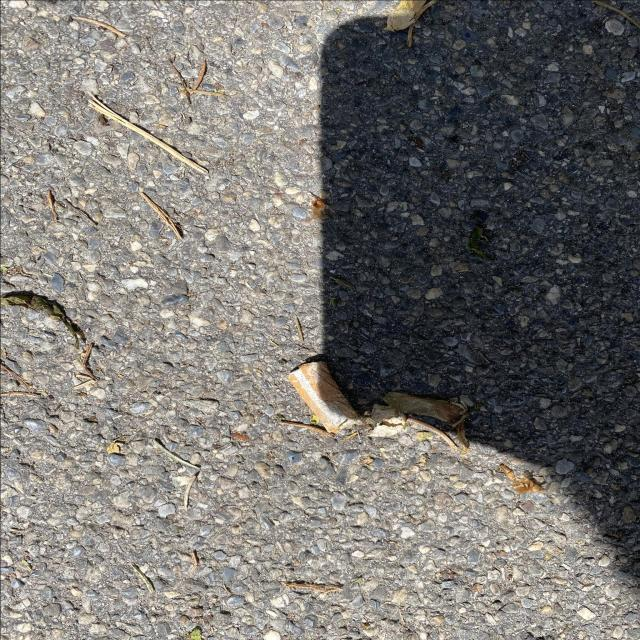other waste: (285, 360, 366, 434)
